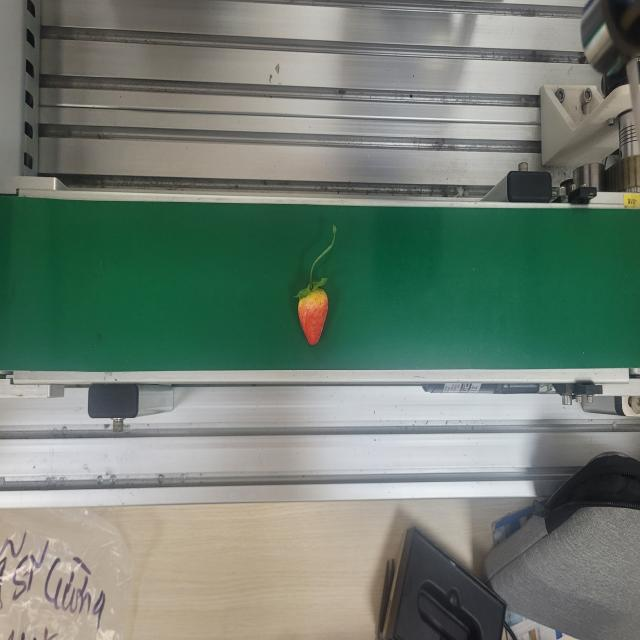Small Unripe Strawberry: (293, 222, 338, 348)
conveyor: (0, 184, 640, 383)
